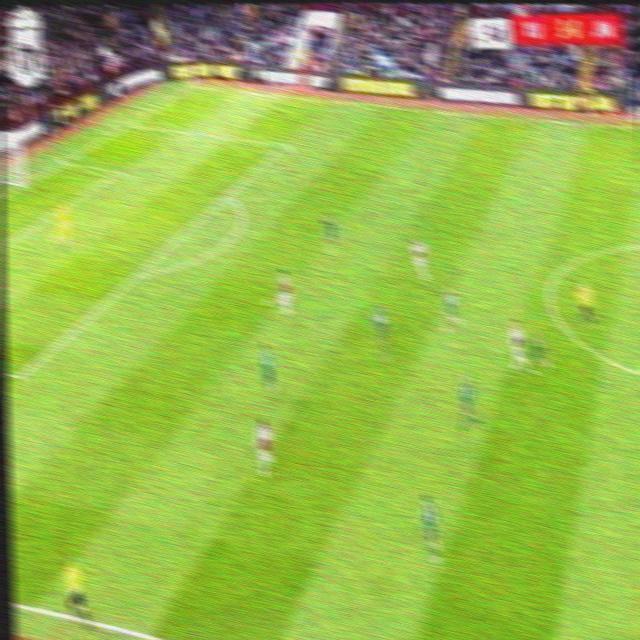bigarea_bottom_inner: (10, 363, 30, 385)
bigarea_top_inner: (276, 135, 295, 153)
bigarea_top_outter: (122, 115, 139, 131)
bottom_arc_area_intersection: (128, 263, 147, 284)
corner: (186, 78, 205, 91)
smallarea_top_inner: (110, 161, 128, 180)
smallarea_top_outter: (55, 152, 75, 170)
top_arc_area_intersection: (220, 184, 237, 201)
